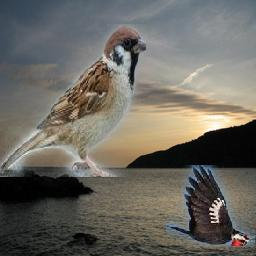Sparrow: (0, 25, 146, 178)
Woodpecker: (167, 165, 256, 247)
